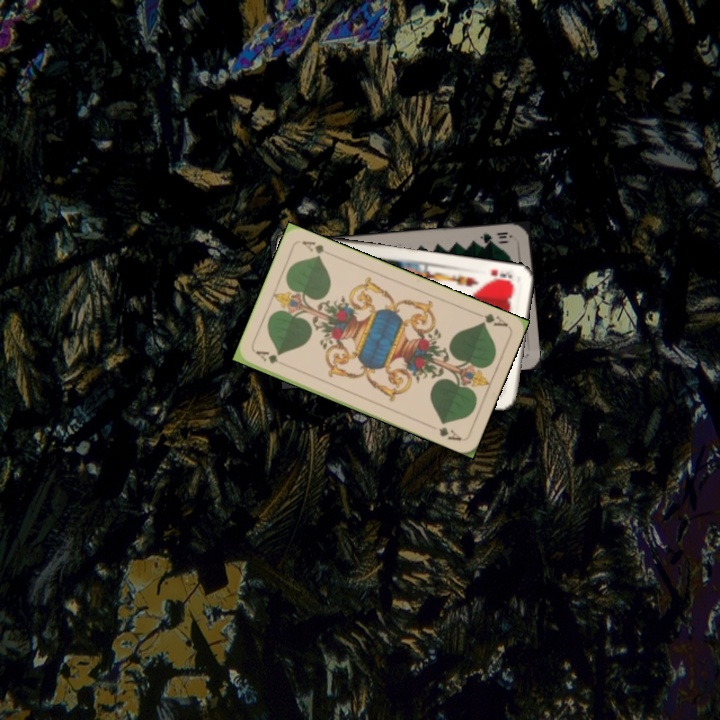G10: (476, 228, 515, 247)
GA: (476, 309, 510, 329), (252, 346, 280, 366)
HK: (485, 265, 514, 285)
